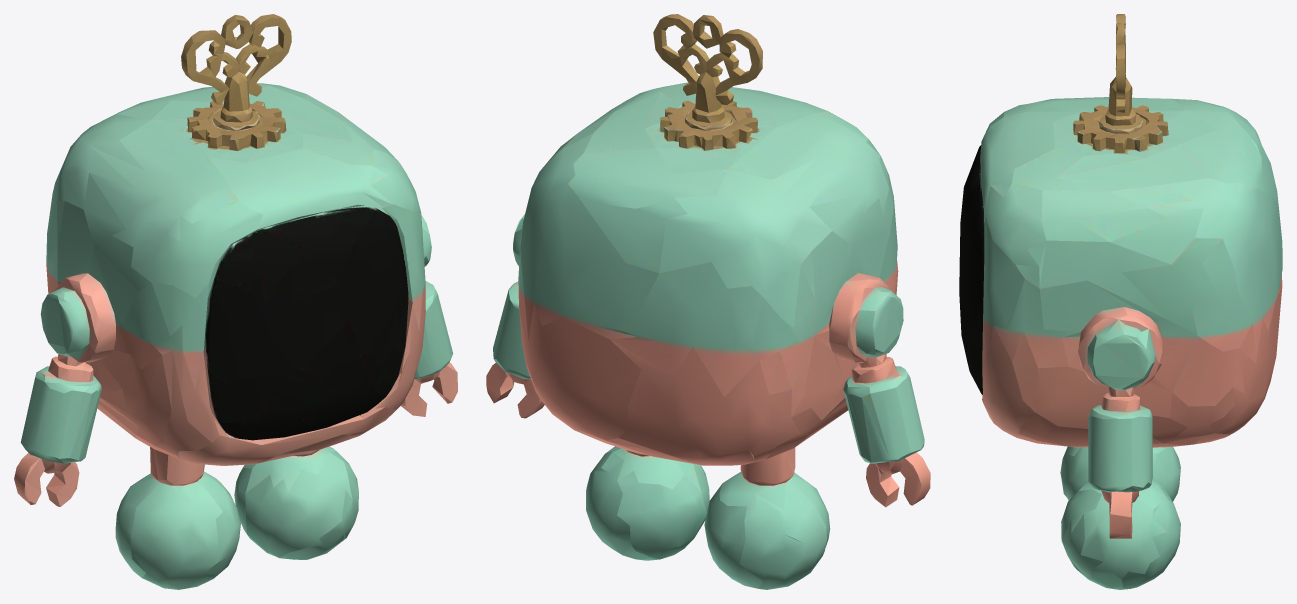
The model's file is toy_robot.glb.
3 views of the same model, side by side, from view 1: azimuth 30°, elevation 25°; view 2: azimuth 150°, elevation 25°; view 3: azimuth 270°, elevation 25° (orthographic). The views are drawn at different scales.
Bounding box in the file's own units: 1.56 × 1.9 × 1.05.
Materials: 1 (1 with a texture image).
